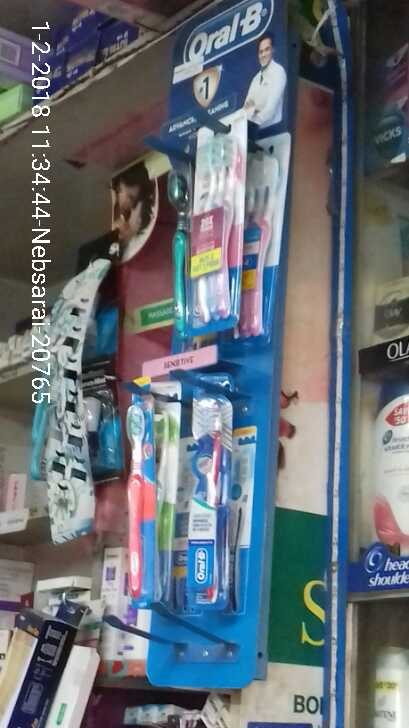oralb: (191, 141, 246, 329), (115, 402, 159, 602), (190, 407, 224, 603)
